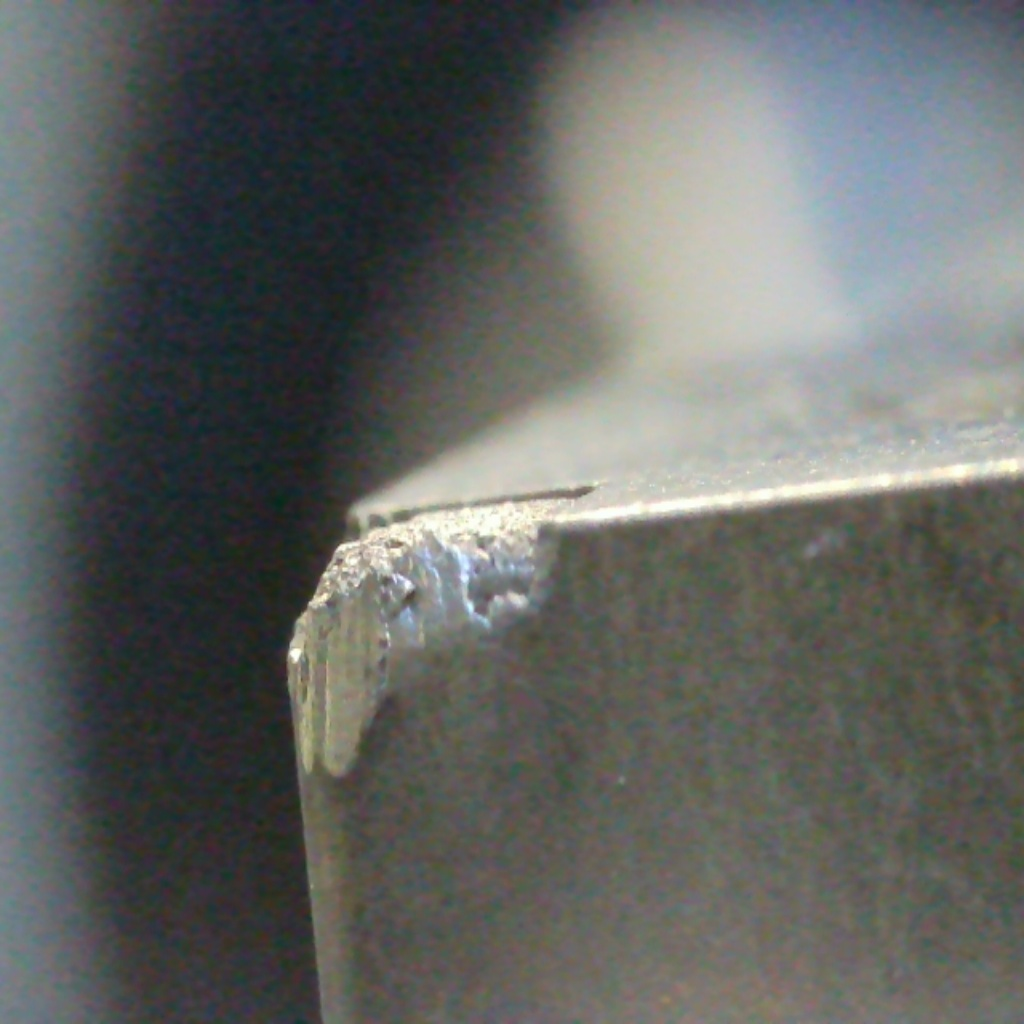flank_wear: (292, 557, 417, 782)
